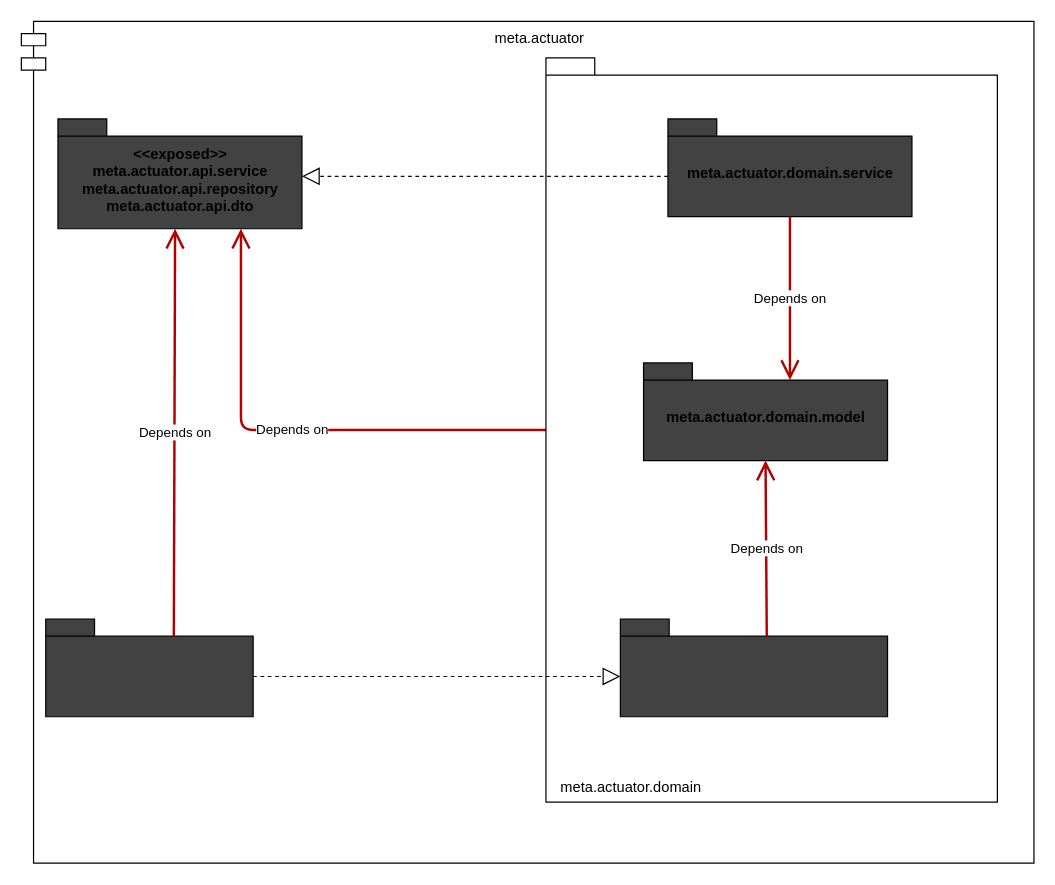
Some shapes in this 1055 by 885 pixel diagram are drawn without their labels. Each missing label, with the centre of its shape:
meta.actuator.domain.repository: point (753, 667)
meta.actuator.persistence: point (149, 667)
